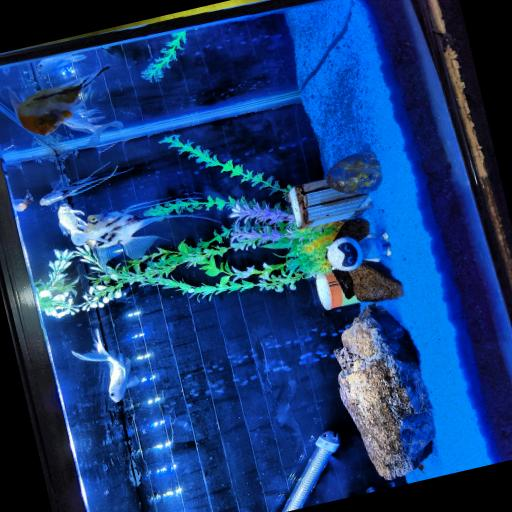Fish: (87, 201, 215, 265), (11, 67, 109, 135), (73, 330, 138, 402), (40, 163, 129, 205), (64, 108, 123, 145), (58, 204, 102, 246), (37, 54, 86, 73), (14, 192, 33, 211)
